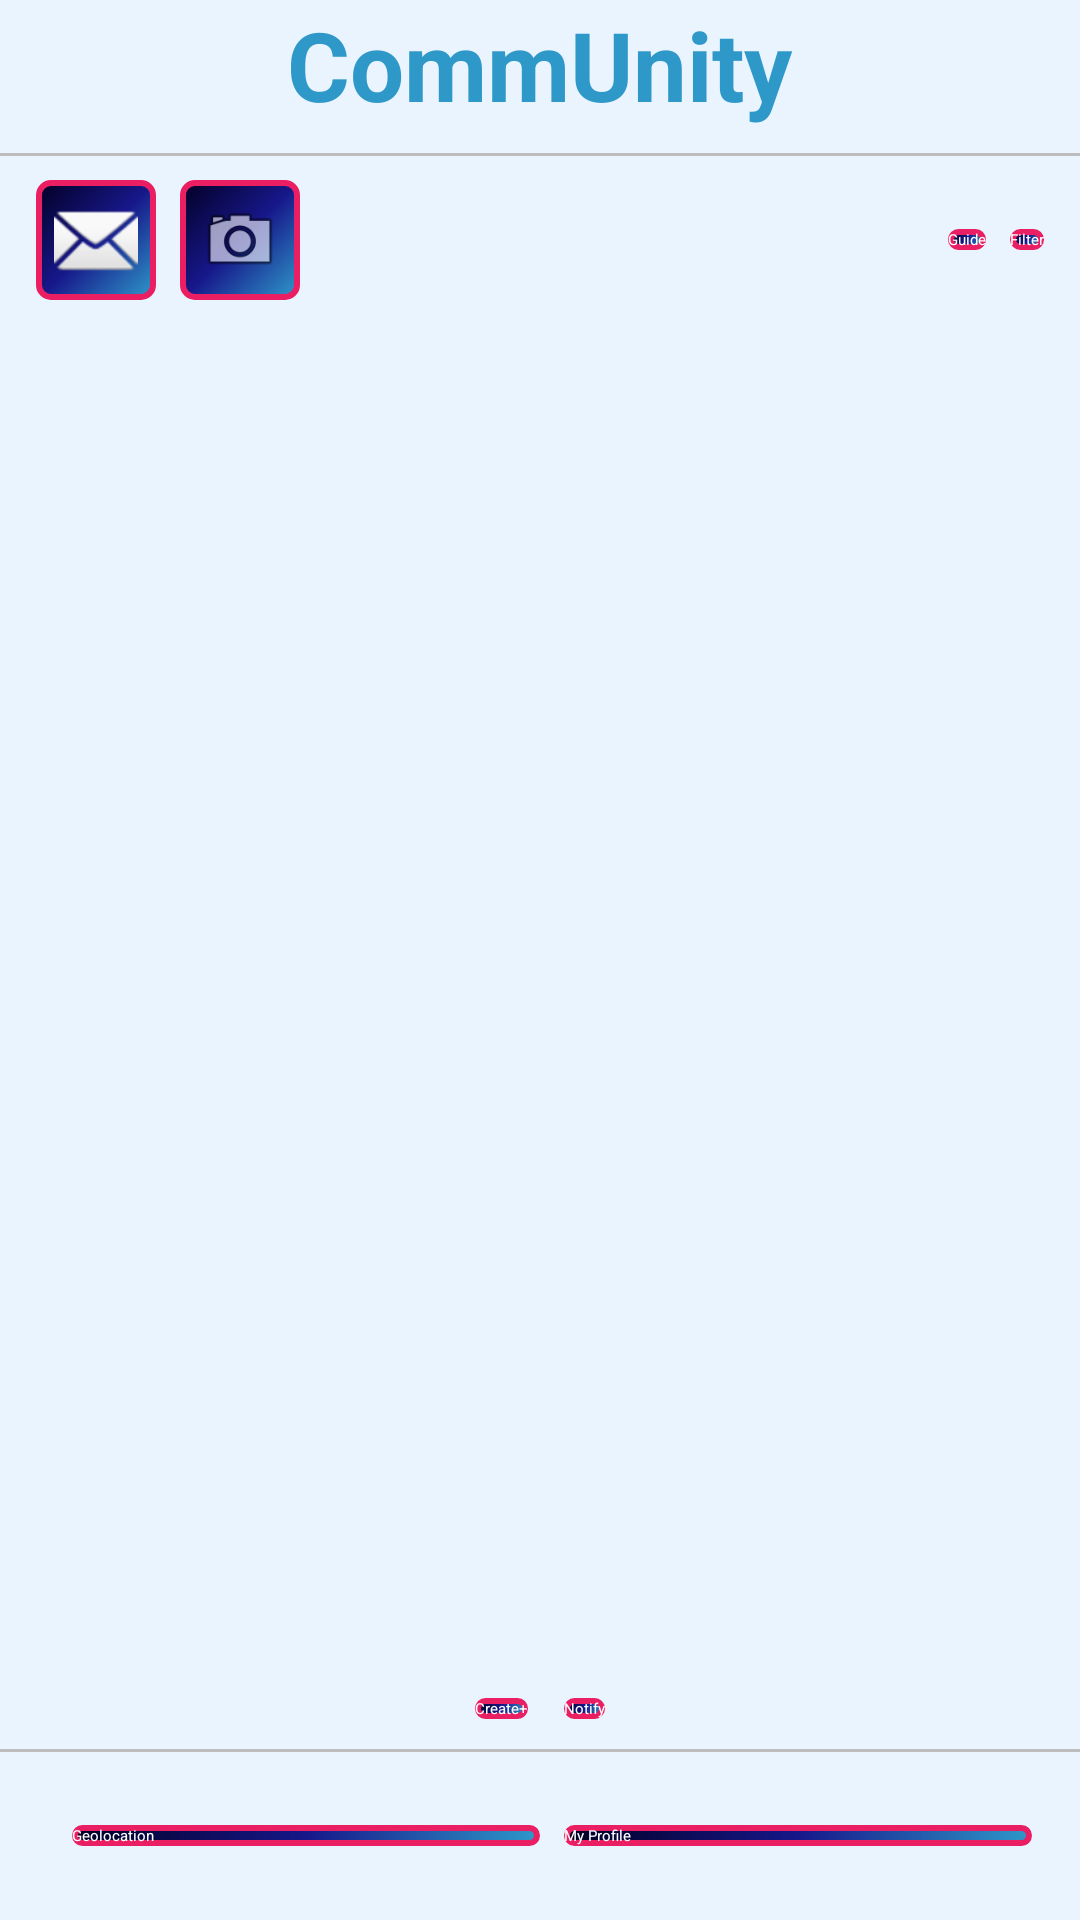

Screen size 1080x1920. Icon name, then its center in pixels as [x,y]:
Camera: [240,240]
